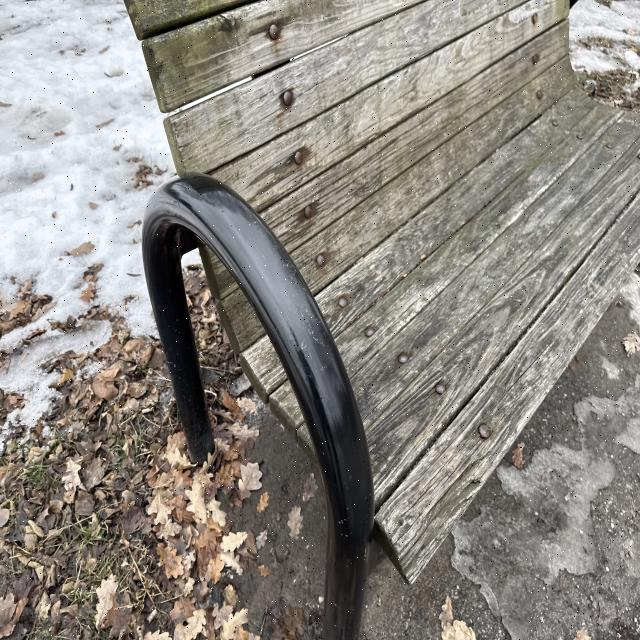Bench: (118, 2, 637, 606)
